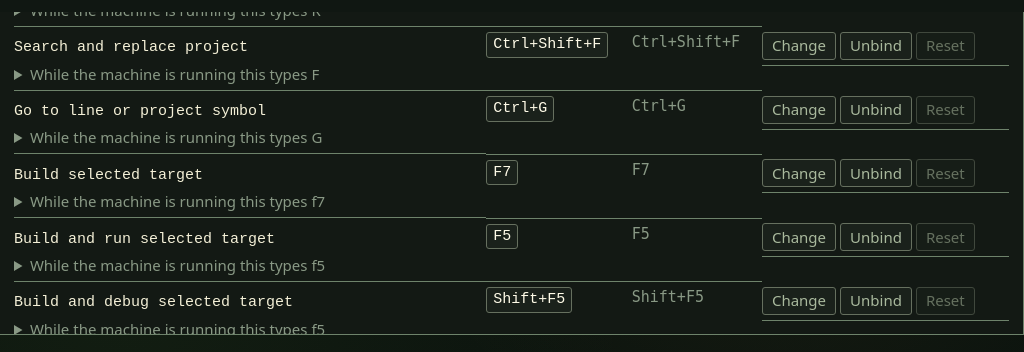
KeyboardShortcutsPanel › records a pressed chord and applies it to the real binding
(page scrolled)
Click the button "Change" in the row of "Build selected target" at x=799, y=173, box [762,159,836,187]
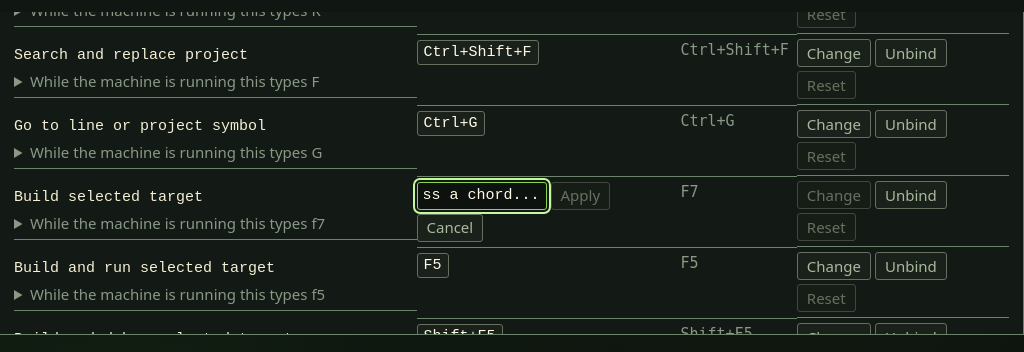
Press 7 in the field named "Press the new chord for Build selected target", box [416,182,546,210]
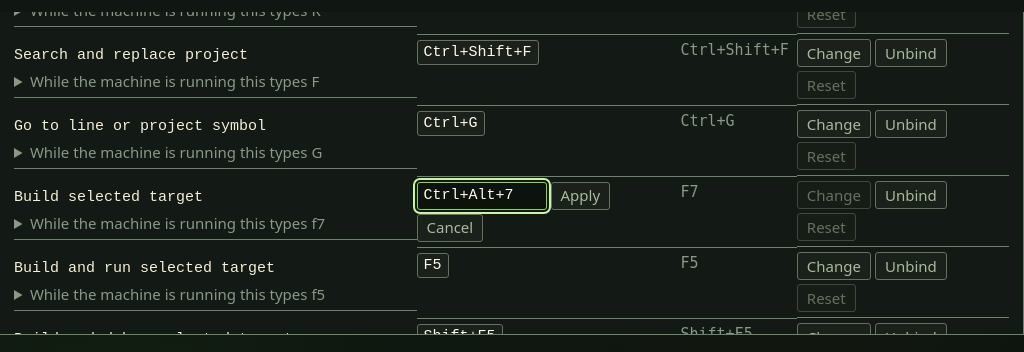
Click the button "Apply" at x=580, y=196, box [550,182,610,210]
(page scrolled)
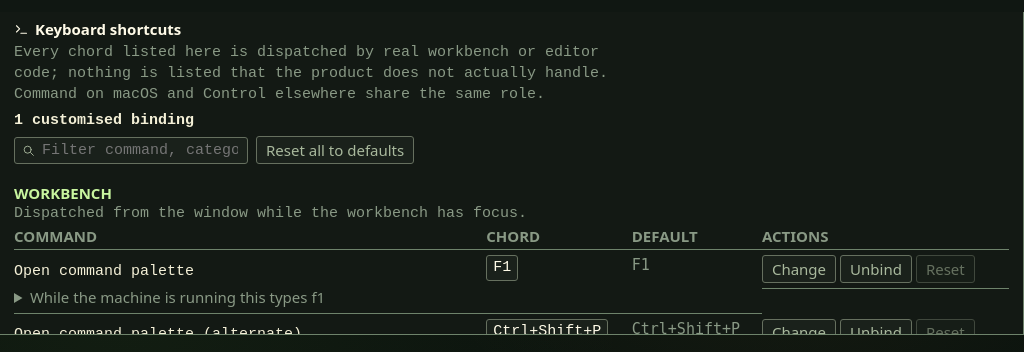
Result: the message reads "1 customised binding" at [14,112,194,129]
